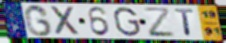6: (88, 6, 112, 37)
G: (23, 4, 55, 38), (112, 7, 142, 38)
T: (173, 8, 196, 37)
X: (50, 5, 82, 37)
Z: (141, 6, 177, 38)
